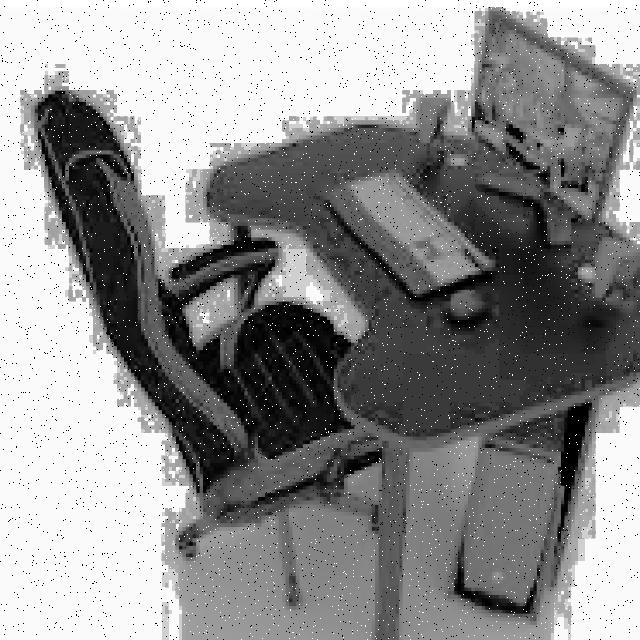book: (31, 83, 396, 640)
table: (199, 116, 640, 640)
